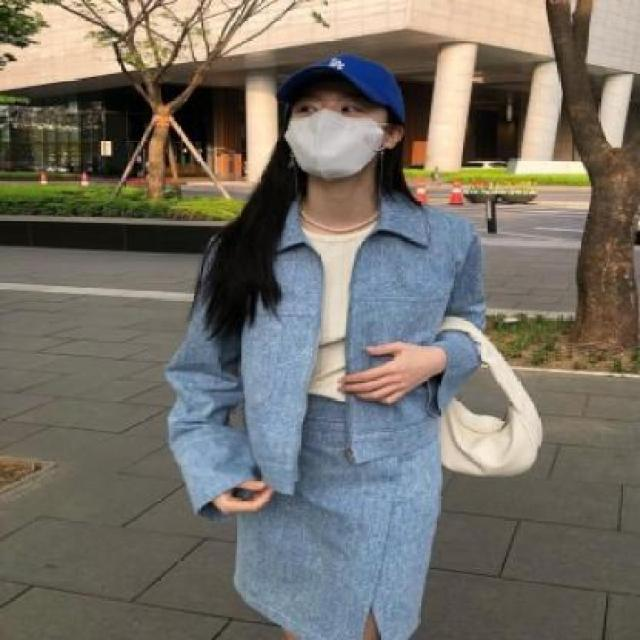hat: (277, 56, 408, 126)
